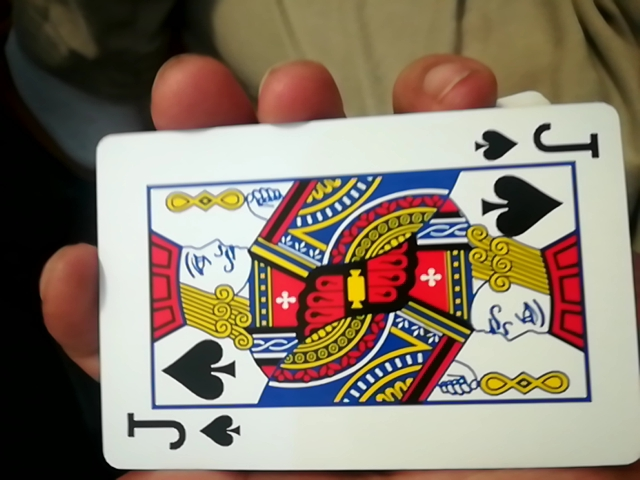ht j: (75, 107, 632, 479)
